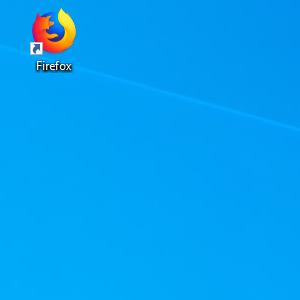firefox: (29, 7, 77, 55)
